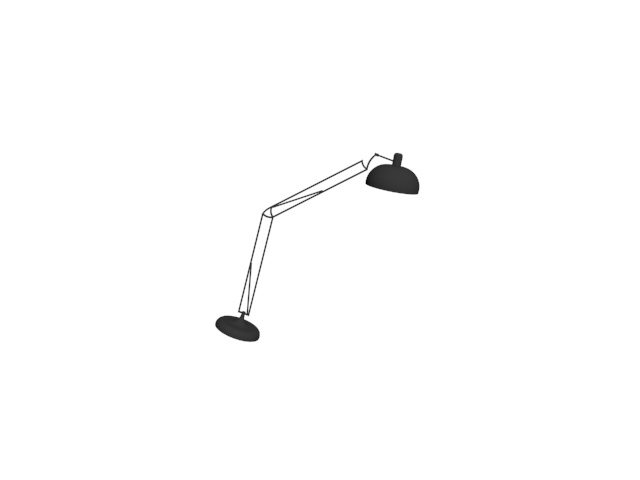desk_lamp: (209, 153, 424, 344)
